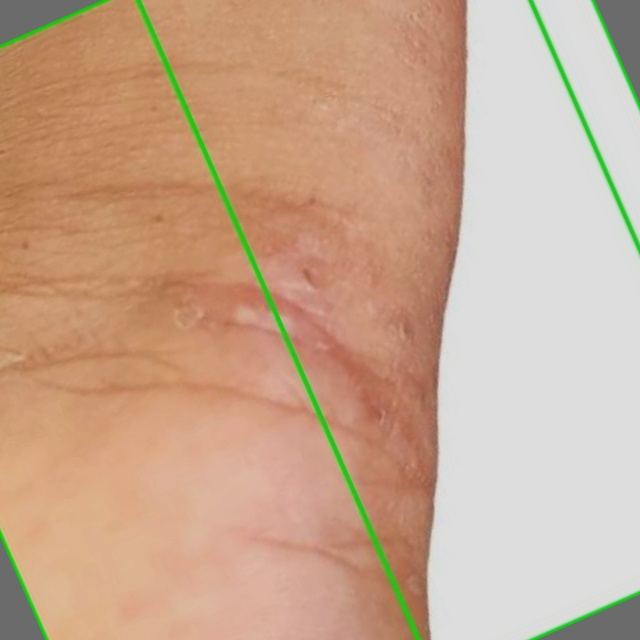Scabies: (0, 0, 639, 639), (138, 0, 639, 639)
